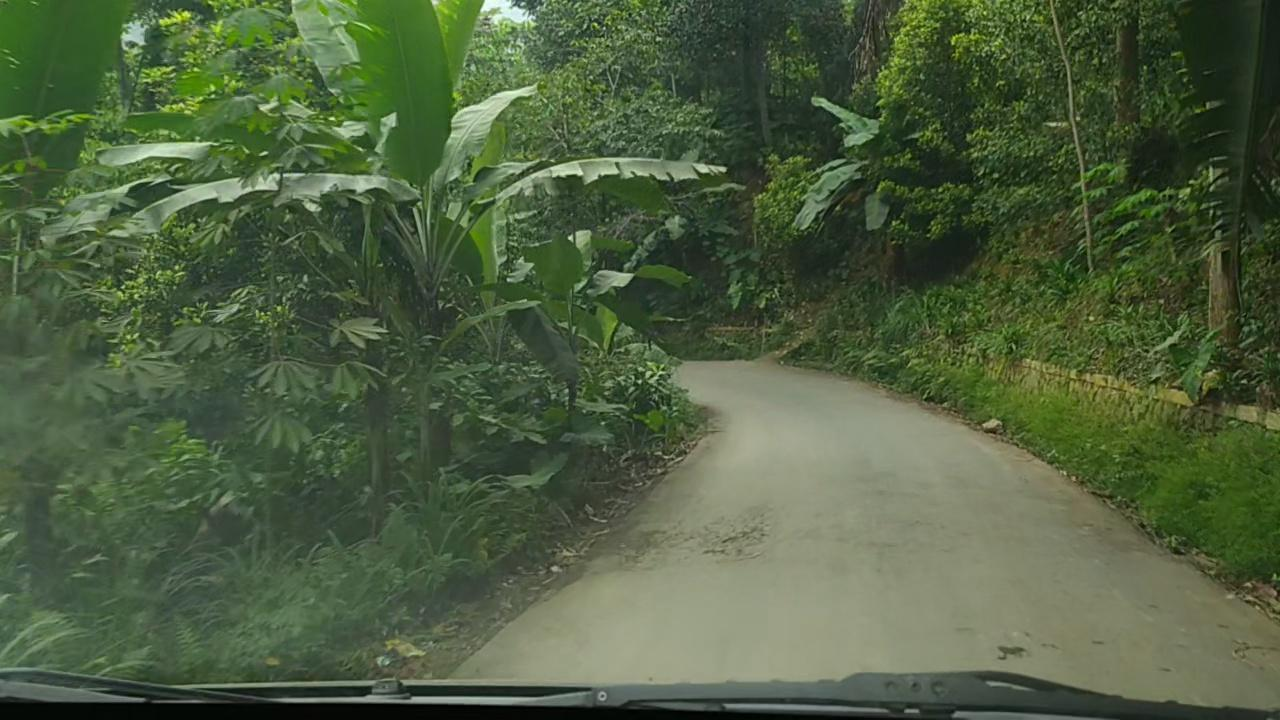pothole: (701, 524, 767, 557)
